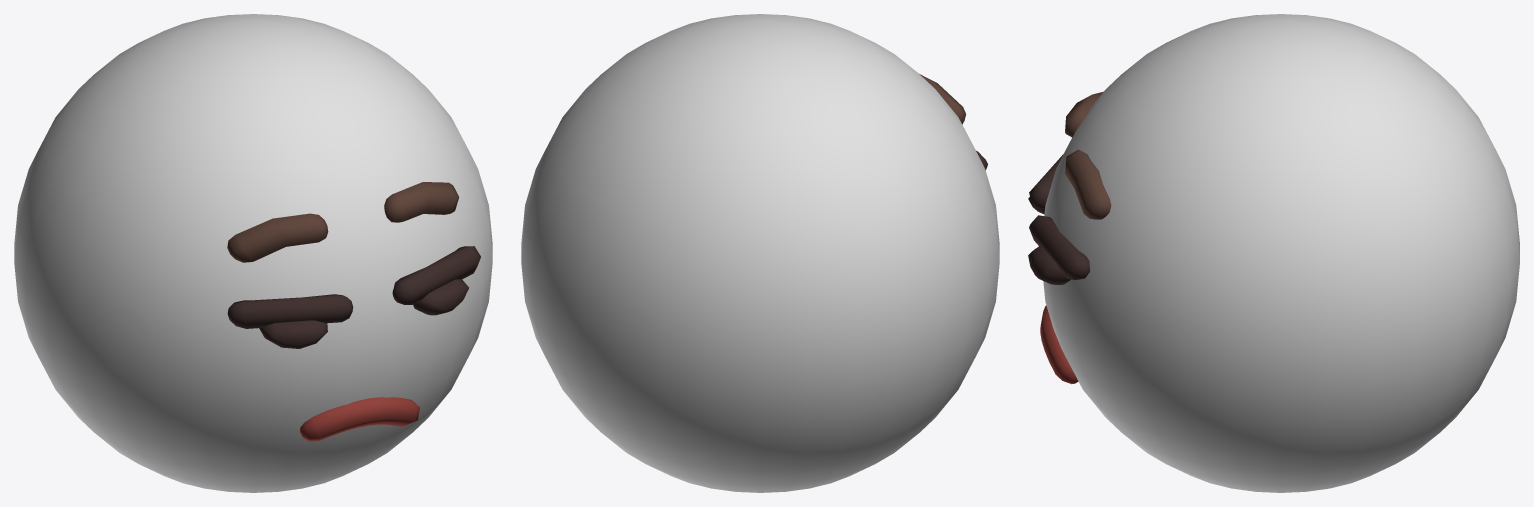
Rendered from face_unamused.glb.
3 renders of one model, left to right at view 1: azimuth 30°, elevation 25°; view 2: azimuth 150°, elevation 25°; view 3: azimuth 270°, elevation 25°, orthographic.
Parts seen in each view (by area): view 1: face_unamused; view 2: face_unamused; view 3: face_unamused.
Part boxes in pixels (<box>): face_unamused: <box>14,14,492,492</box>; face_unamused: <box>521,14,999,492</box>; face_unamused: <box>1028,14,1519,492</box>.
Bounding box in the file's own units: 1 × 1 × 1.02.
